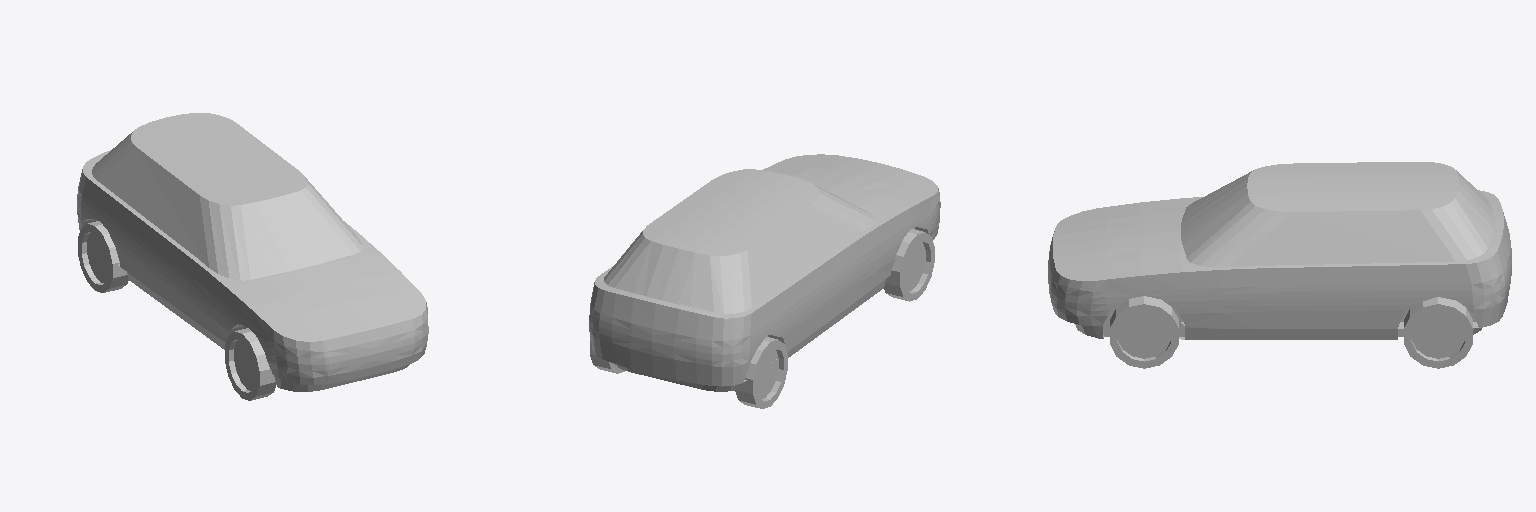
Rendered from car.obj.
3 renders of one model, left to right at view 1: azimuth 30°, elevation 25°; view 2: azimuth 150°, elevation 25°; view 3: azimuth 270°, elevation 25°, orthographic.
Visible parts, largest first — view 1: prop-car; view 2: prop-car; view 3: prop-car.
Boxes of the visible parts, <box> form: prop-car: <box>77,113,428,400</box>; prop-car: <box>589,154,940,408</box>; prop-car: <box>1048,162,1511,368</box>.
Bounding box in the file's own units: 1.84 × 1.57 × 4.54.